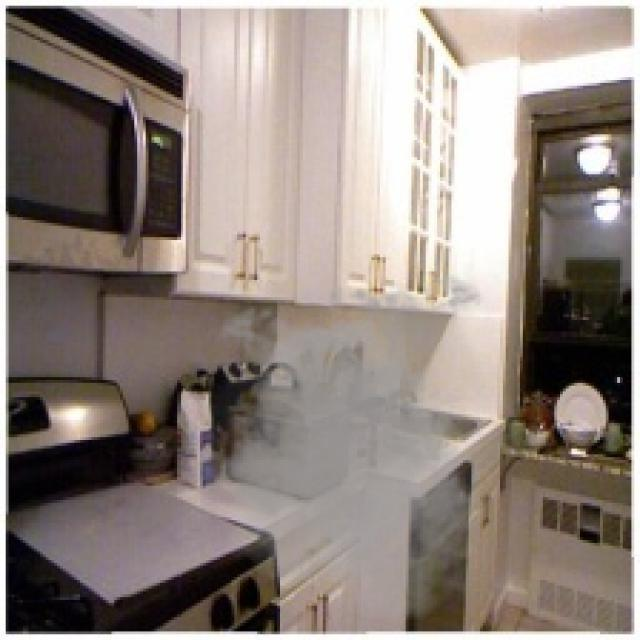Smoke: (165, 263, 538, 626)
